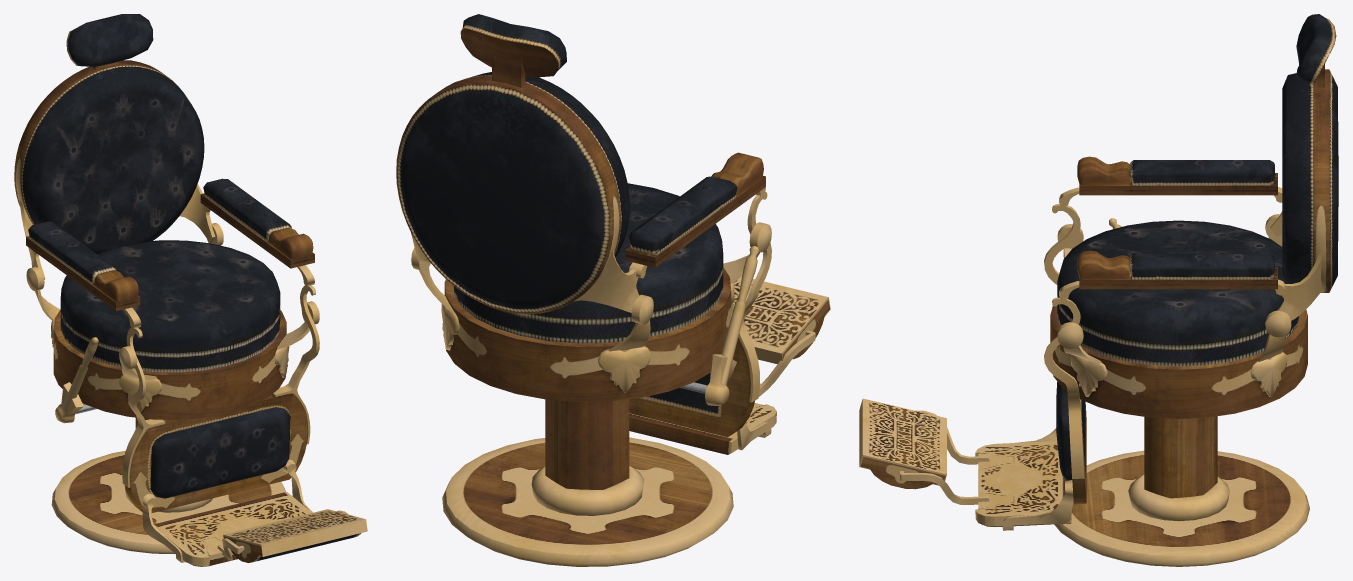
Rendered from BarberShopChair_01_1k.gltf.
3 views of the same model, side by side, from view 1: azimuth 30°, elevation 25°; view 2: azimuth 150°, elevation 25°; view 3: azimuth 270°, elevation 25° (orthographic). The views are drawn at different scales.
Parts seen in each view (by area): view 1: BarberShopChair_01; view 2: BarberShopChair_01; view 3: BarberShopChair_01.
Part boxes in pixels (bbox=[...]): BarberShopChair_01: bbox=[14, 14, 367, 566]; BarberShopChair_01: bbox=[396, 14, 830, 566]; BarberShopChair_01: bbox=[859, 14, 1338, 566].
Size of the model in its own units: 0.7565 by 1.49 by 1.33.
Materials: 1 (1 with a texture image).
